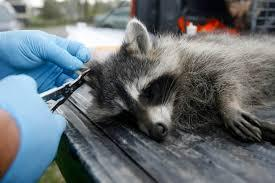raccoon: (67, 6, 275, 162)
